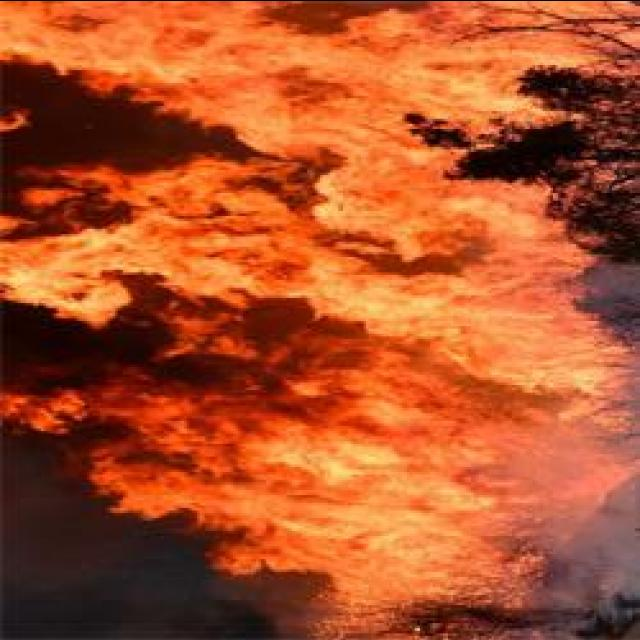fire: (303, 448, 469, 546), (115, 0, 243, 74), (452, 284, 566, 366), (349, 41, 463, 118), (329, 142, 427, 230)
smoke: (484, 432, 632, 510)
